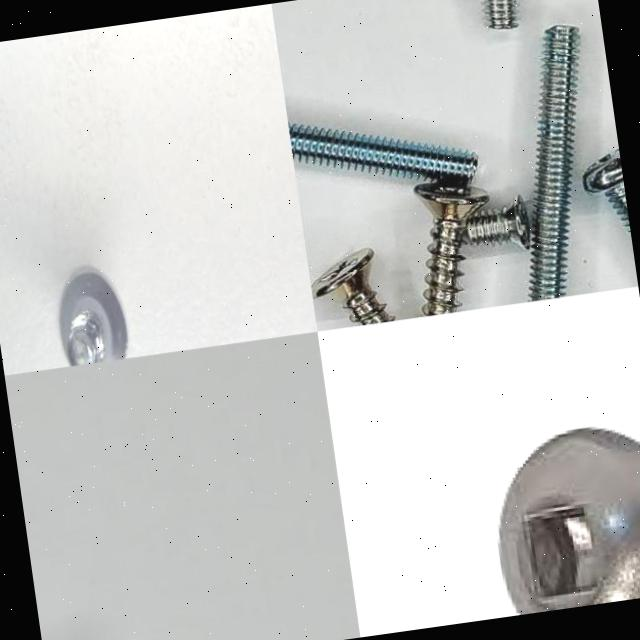Screw: (496, 425, 640, 615), (528, 26, 581, 302), (288, 123, 477, 183), (414, 182, 488, 317), (313, 250, 392, 326), (60, 277, 126, 366), (465, 197, 530, 248), (484, 0, 517, 29)
